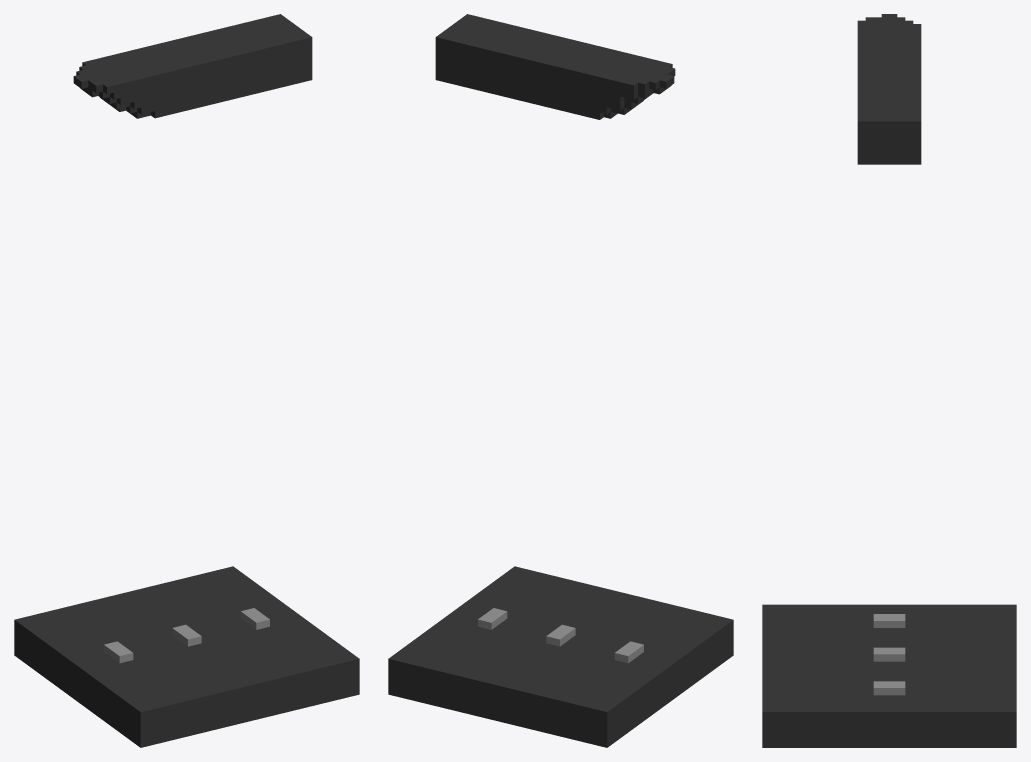
File: Portal_3.2.1.obj
The picture shows the model from 3 angles, left to right: view 1: azimuth 30°, elevation 25°; view 2: azimuth 150°, elevation 25°; view 3: azimuth 270°, elevation 25°; orthographic projection.
Size of the model in its own units: 3.2 by 8.7 by 3.2.
1 material, 1 textured.
